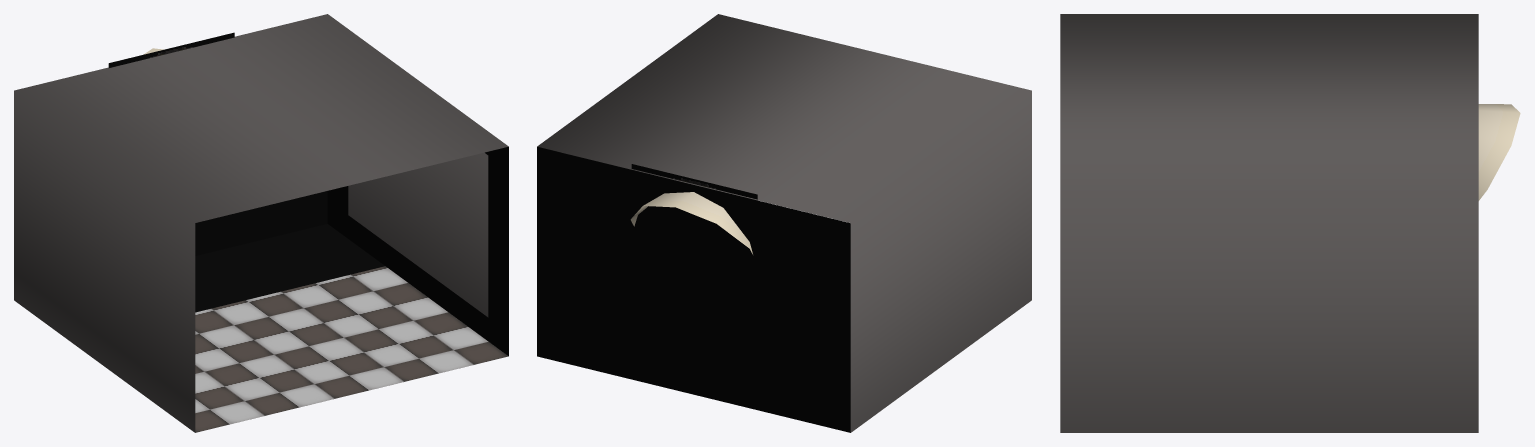
Rendered from galleryroom.glb.
The picture shows the model from 3 angles, left to right: view 1: azimuth 30°, elevation 25°; view 2: azimuth 150°, elevation 25°; view 3: azimuth 270°, elevation 25°; orthographic projection. The views are drawn at different scales.
Parts seen in each view (by area): view 1: Node1, Node2, Node4, Node6, Node3, Node7; view 2: Node1, Node3, Node5, Node7; view 3: Node1, Node5.
Boxes of the visible parts, x1,y1,x2,y2 form: Node1: [14, 14, 508, 432]; Node2: [195, 266, 508, 432]; Node4: [195, 224, 384, 312]; Node6: [327, 146, 508, 356]; Node3: [195, 191, 327, 255]; Node7: [108, 32, 234, 67]; Node1: [537, 14, 1031, 432]; Node3: [537, 147, 850, 432]; Node5: [630, 192, 752, 254]; Node7: [631, 164, 757, 199]; Node1: [1060, 14, 1478, 432]; Node5: [1478, 104, 1520, 200].
Size of the model in its own units: 2.16 by 1.41 by 2.38.
Materials: 6 (4 with a texture image).
